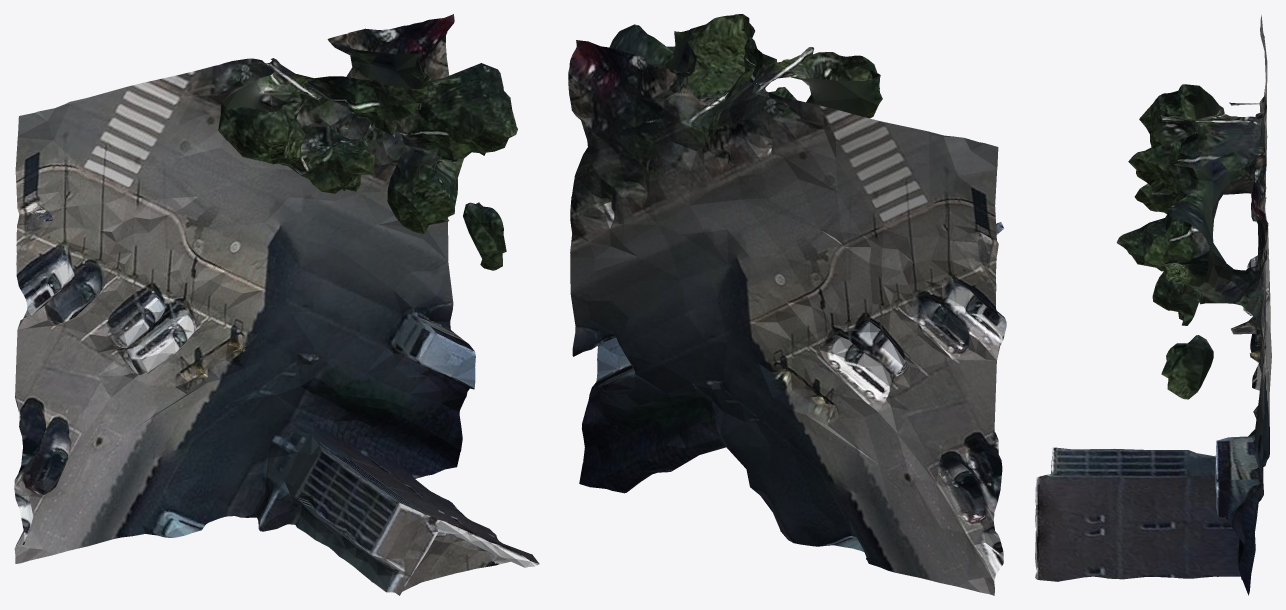
Rendered from Tile_+038_+019_L20_0001120.obj.
3 views of the same model, side by side, from view 1: azimuth 30°, elevation 25°; view 2: azimuth 150°, elevation 25°; view 3: azimuth 270°, elevation 25° (orthographic). The views are drawn at different scales.
Size of the model in its own units: 31.5 by 31.5 by 17.05.
Materials: 1 (1 with a texture image).
